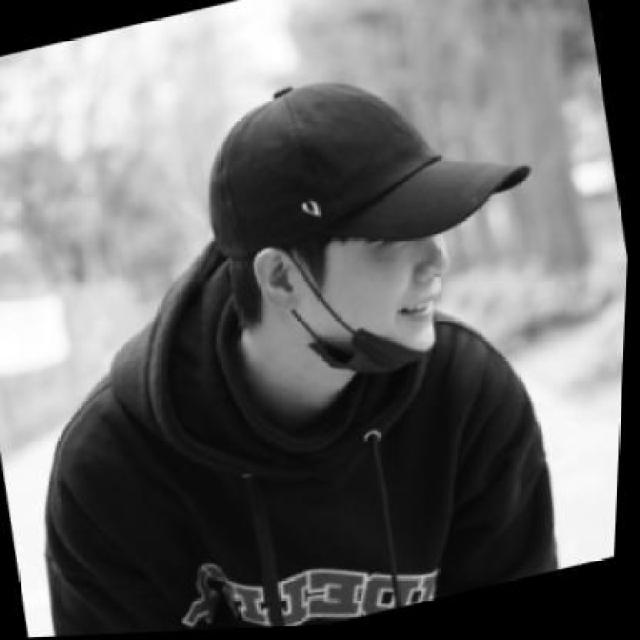hat: (181, 28, 550, 295)
